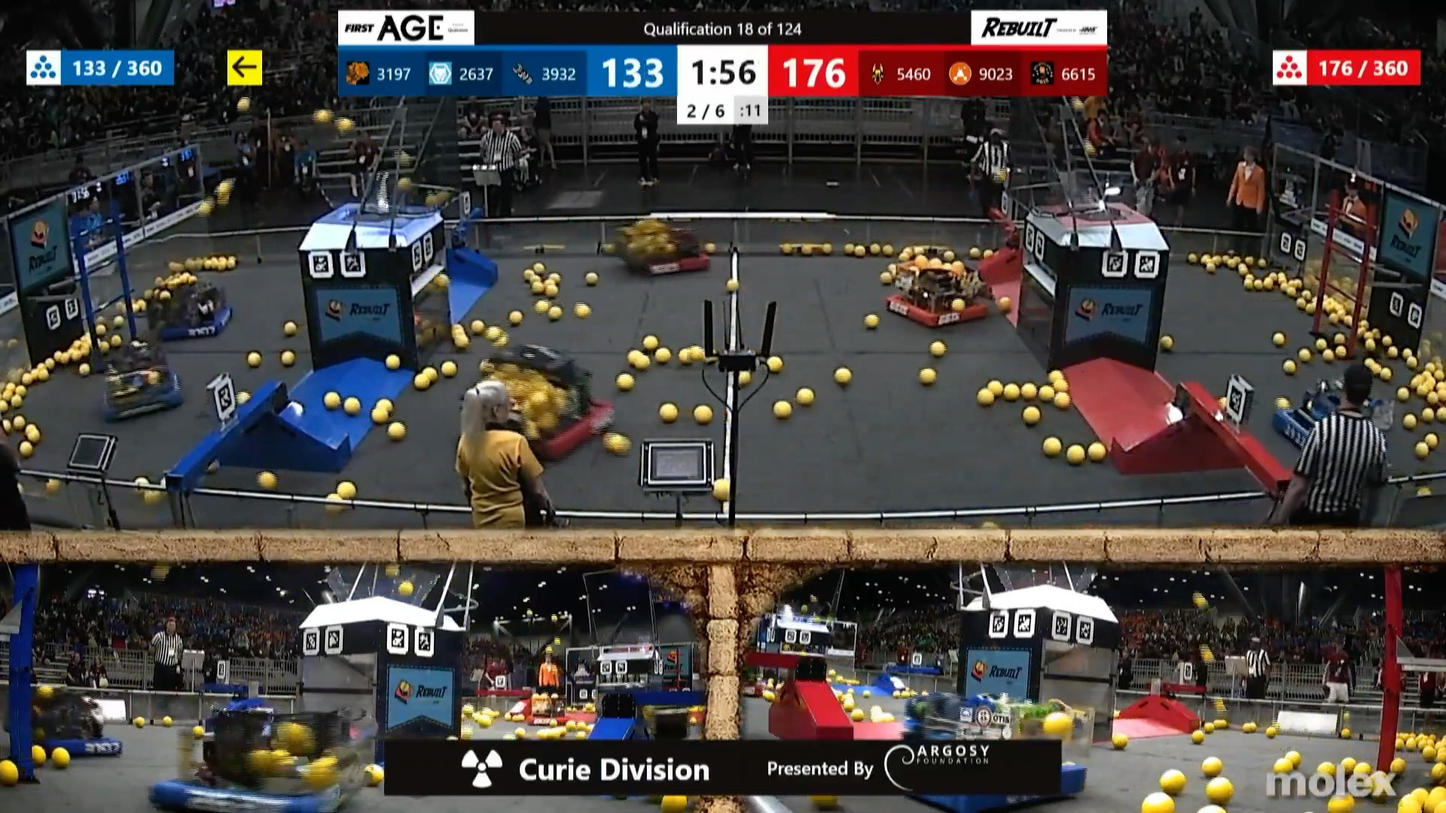bumpers: (465, 391, 618, 464), (149, 765, 340, 812), (875, 279, 1008, 336), (87, 359, 200, 425), (1268, 408, 1392, 464), (148, 300, 248, 346), (34, 726, 133, 763), (630, 244, 718, 281)
